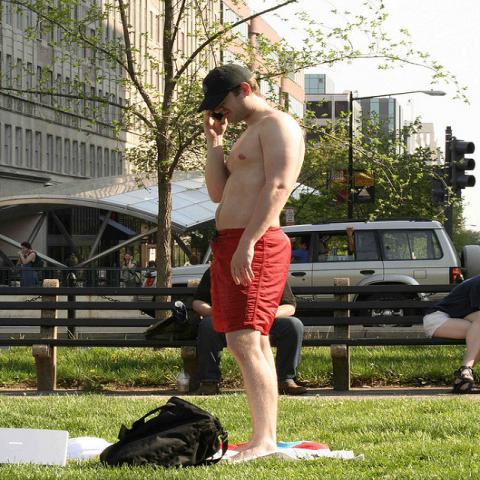car: (282, 220, 462, 287)
